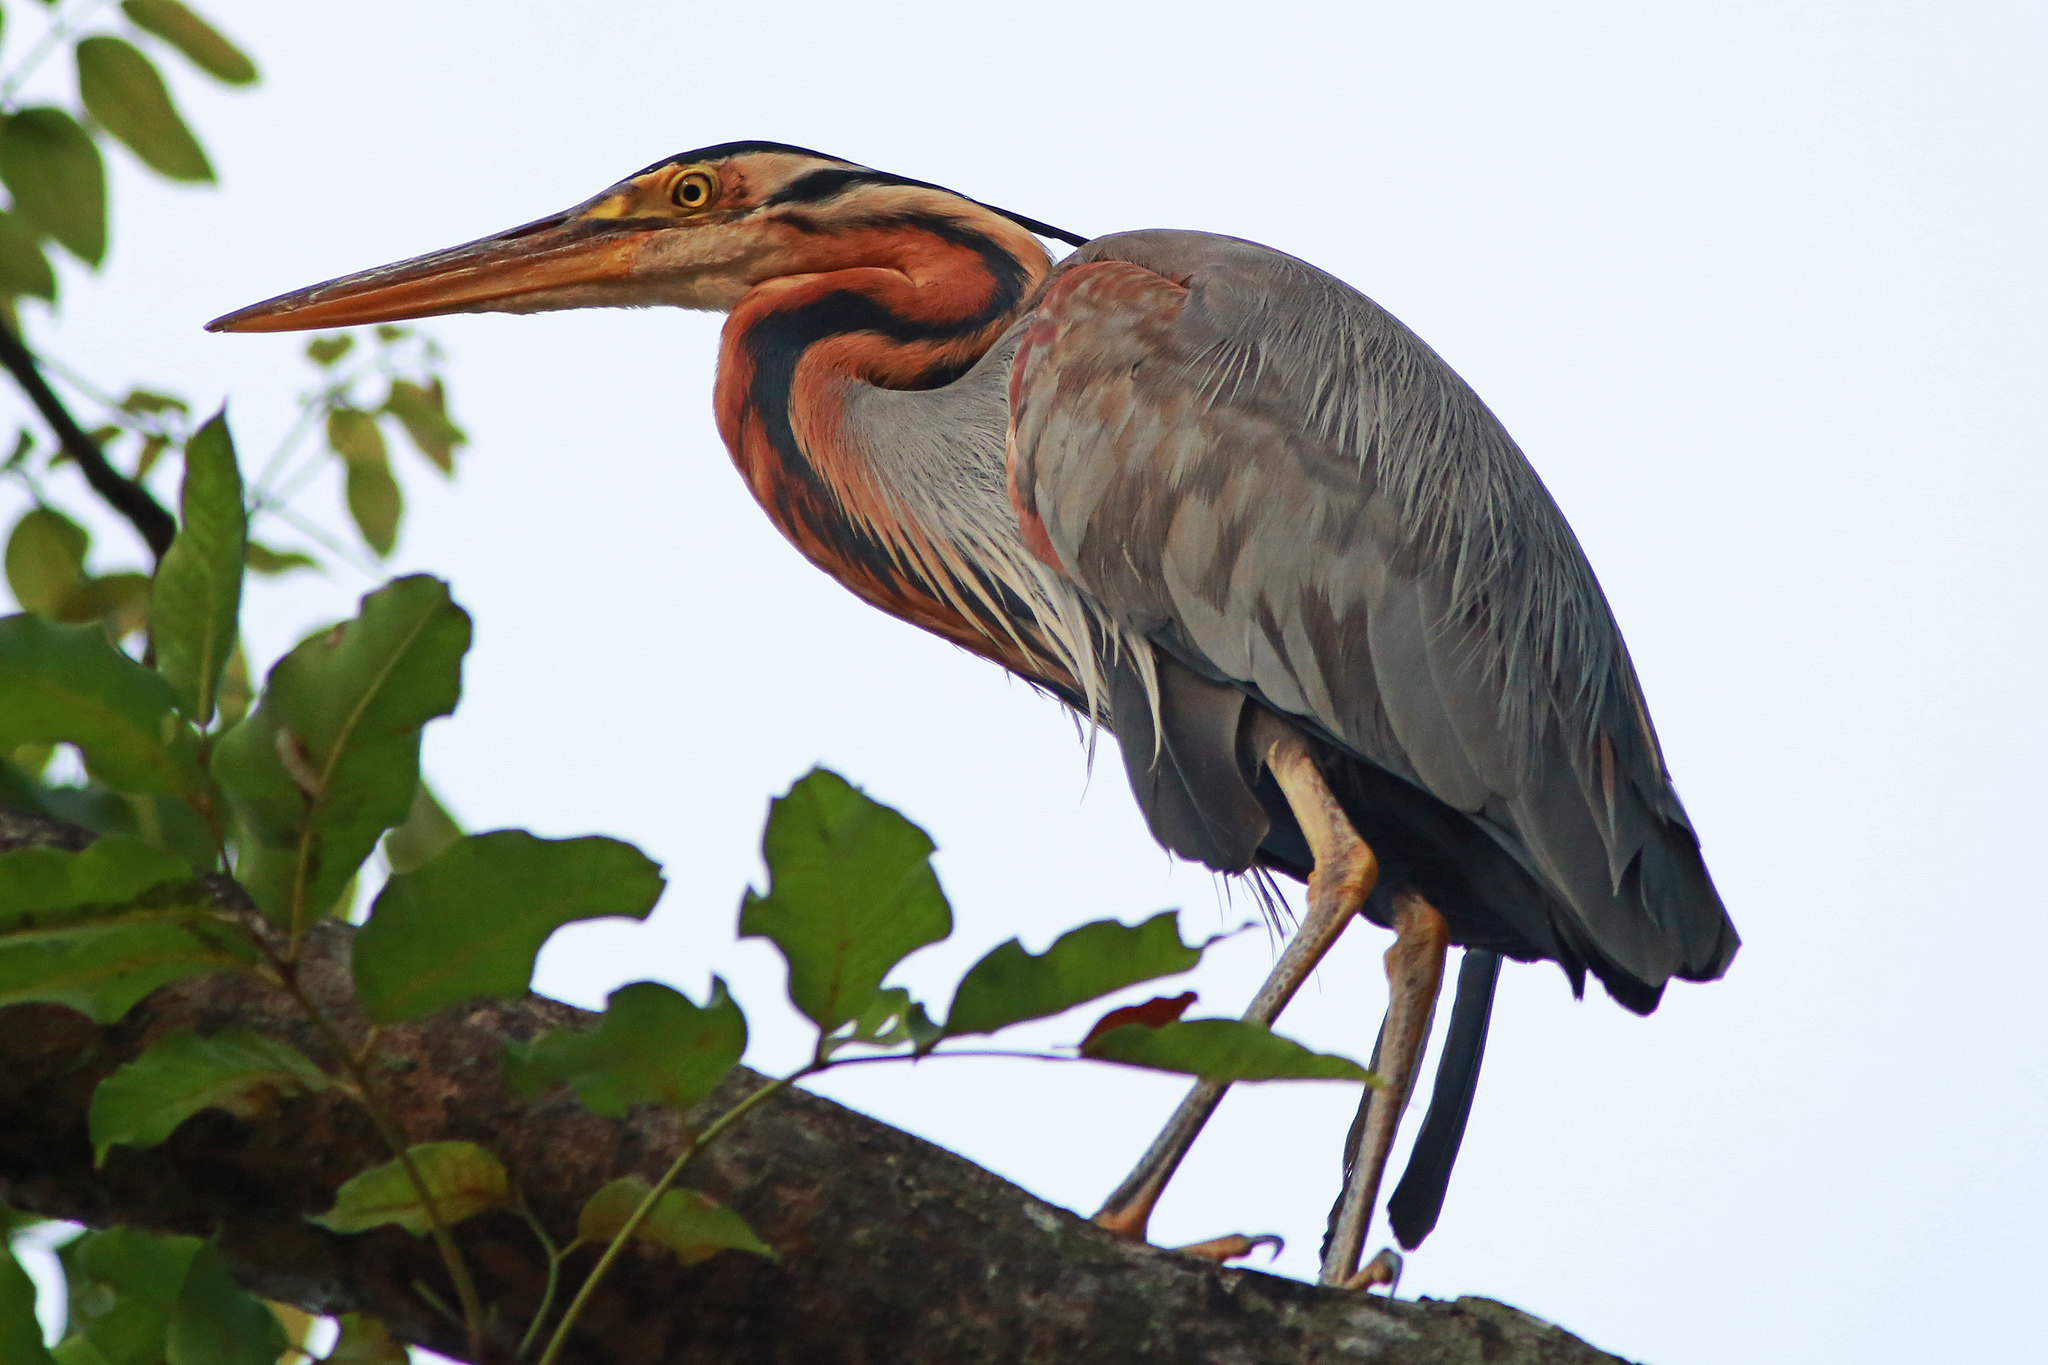bird: (210, 120, 1777, 1315)
